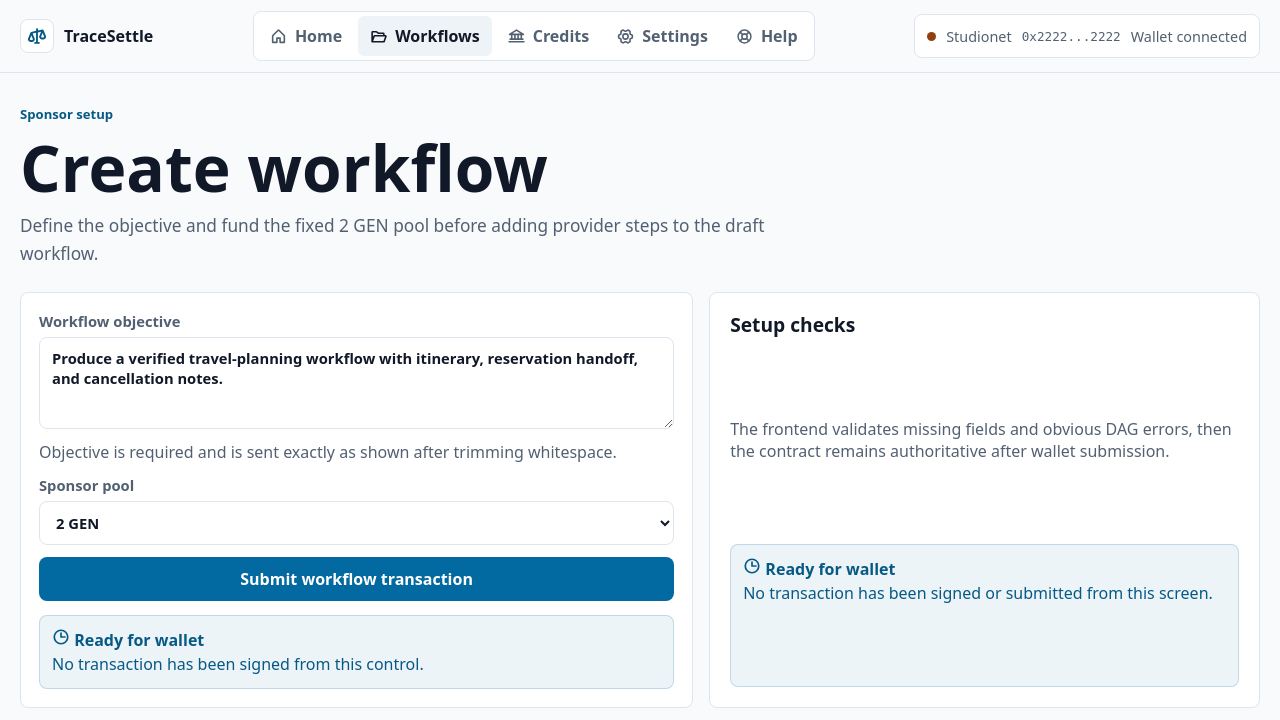
it: wallet-backed form payloads › does not claim submission while wallet approval is still pending
Click the button "Submit workflow transaction": [357, 578] box [39, 556, 674, 600]
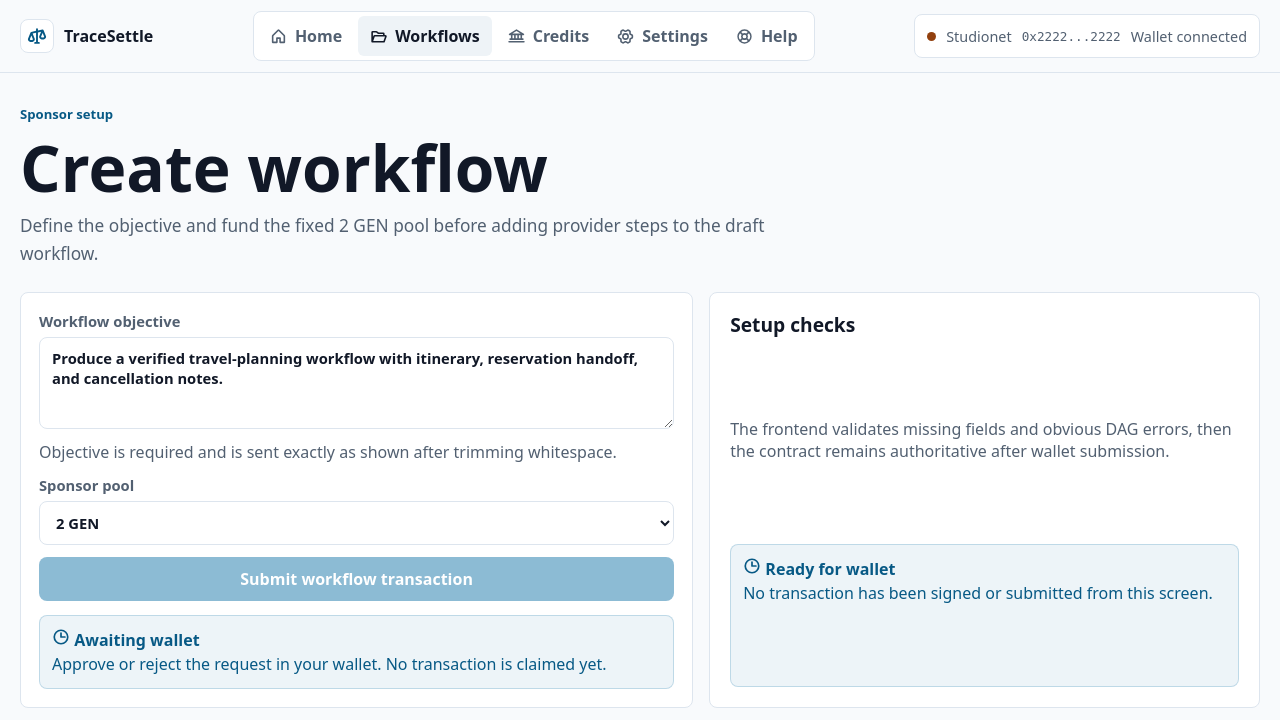
Expected: the text "Awaiting wallet" is shown, [52, 628, 200, 650]
Expected: the button "Submit workflow transaction" is disabled, [39, 556, 674, 600]
